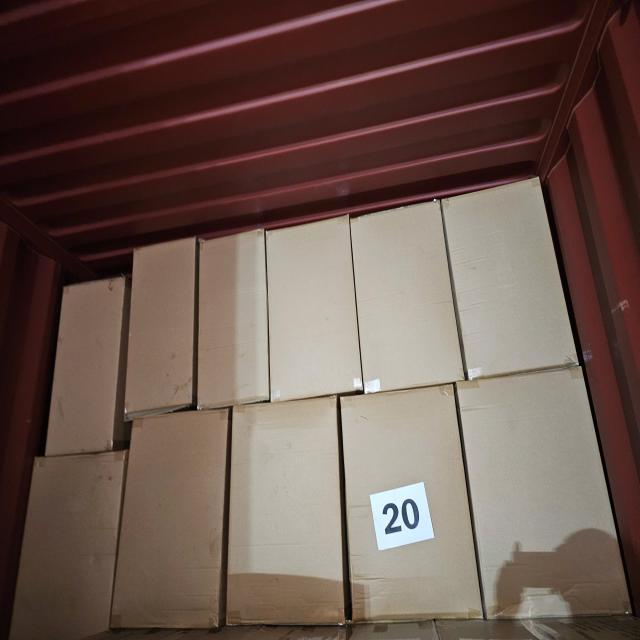Carton: (467, 360, 606, 620), (345, 387, 473, 626), (232, 396, 344, 633), (112, 413, 226, 637), (443, 175, 560, 382), (13, 451, 121, 640), (360, 197, 460, 393), (268, 208, 356, 401), (44, 280, 122, 460), (196, 232, 269, 410), (125, 242, 194, 418)
